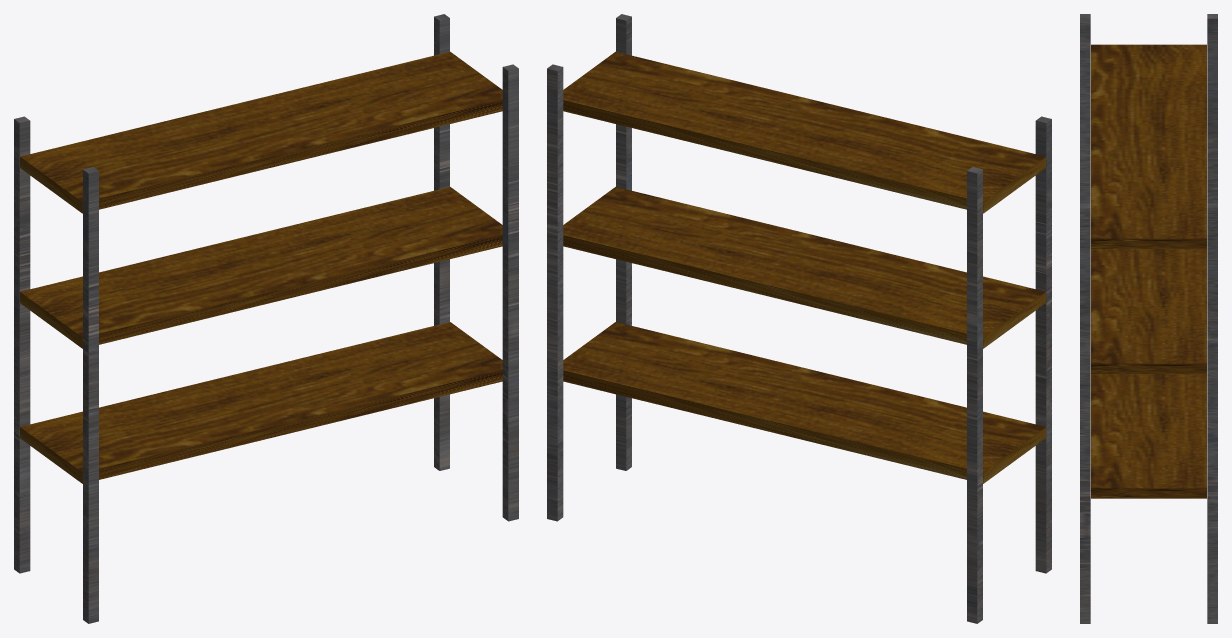
The model's file is stand.fbx.
3 renders of one model, left to right at view 1: azimuth 30°, elevation 25°; view 2: azimuth 150°, elevation 25°; view 3: azimuth 270°, elevation 25°, orthographic. The views are drawn at different scales.
Parts seen in each view (by area): view 1: Stand.001; view 2: Stand.001; view 3: Stand.001.
Boxes of the visible parts, x1,y1,x2,y2 form: Stand.001: [14, 14, 518, 623]; Stand.001: [547, 14, 1051, 623]; Stand.001: [1080, 14, 1217, 623].
Bounding box in the file's own units: 200 × 200 × 60.
